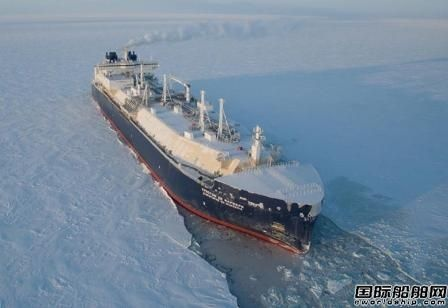Cargoship: (84, 44, 329, 256)
